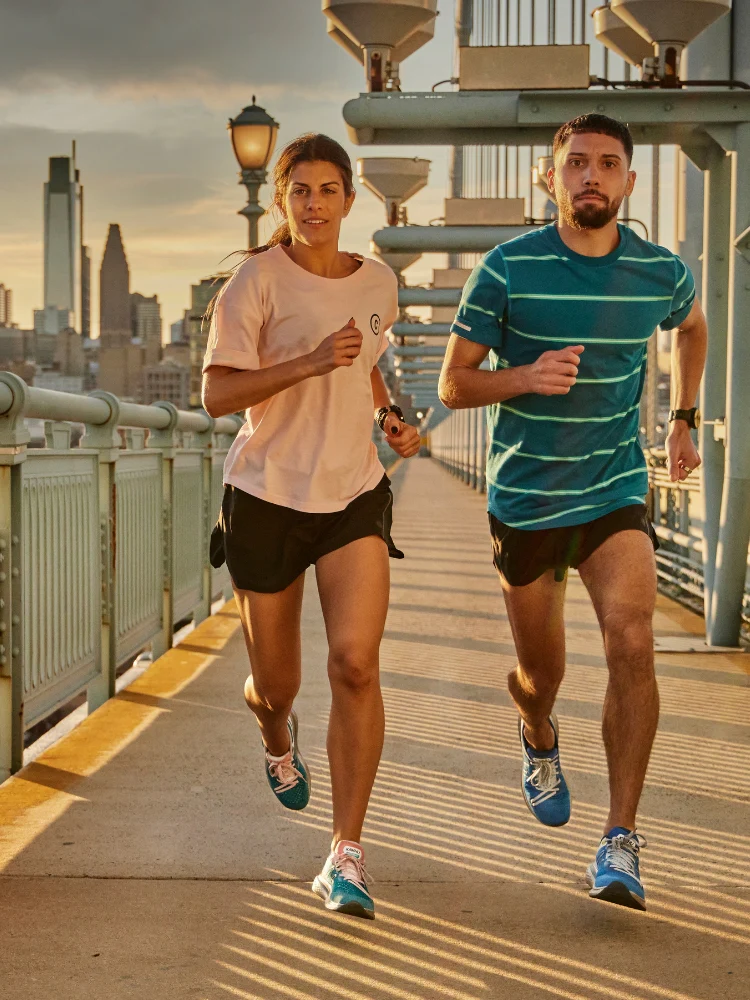person: (428, 108, 713, 920), (196, 128, 412, 926)
